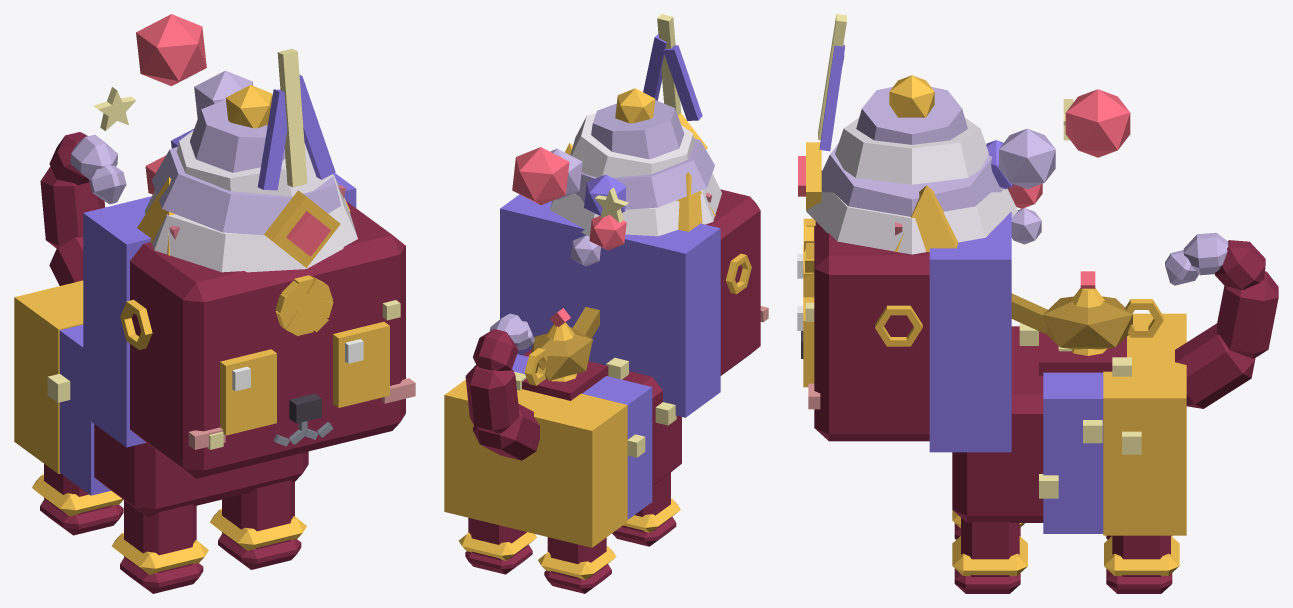
Rendered from CatCafe_Cat_Djinn.glb.
3 renders of one model, left to right at view 1: azimuth 30°, elevation 25°; view 2: azimuth 150°, elevation 25°; view 3: azimuth 270°, elevation 25°, orthographic. The views are drawn at different scales.
Parts seen in each view (by area): view 1: CatCafe_Cat_Djinn_Head, CatCafe_Cat_Djinn_Prop, CatCafe_Cat_Djinn_Body, CatCafe_Cat_Djinn_Tail, CatCafe_Cat_Djinn_Glow, CatCafe_Cat_Djinn_Smoke_Glow, CatCafe_Cat_Djinn_LegF2, CatCafe_Cat_Djinn_LegF1, CatCafe_Cat_Djinn_Eye1, CatCafe_Cat_Djinn_Eye2, CatCafe_Cat_Djinn_LegB2, CatCafe_Cat_Djinn_EarR; view 2: CatCafe_Cat_Djinn_Head, CatCafe_Cat_Djinn_Body, CatCafe_Cat_Djinn_Prop, CatCafe_Cat_Djinn_Tail, CatCafe_Cat_Djinn_Smoke_Glow, CatCafe_Cat_Djinn_Prop2, CatCafe_Cat_Djinn_Glow, CatCafe_Cat_Djinn_LegB2, CatCafe_Cat_Djinn_LegB1, CatCafe_Cat_Djinn_LegF2, CatCafe_Cat_Djinn_EarR; view 3: CatCafe_Cat_Djinn_Head, CatCafe_Cat_Djinn_Body, CatCafe_Cat_Djinn_Prop, CatCafe_Cat_Djinn_Tail, CatCafe_Cat_Djinn_Prop2, CatCafe_Cat_Djinn_Smoke_Glow, CatCafe_Cat_Djinn_LegF1, CatCafe_Cat_Djinn_LegB1, CatCafe_Cat_Djinn_Glow, CatCafe_Cat_Djinn_EarL, CatCafe_Cat_Djinn_Eye1.
Part boxes in pixels (x1,y1,x2,y2): CatCafe_Cat_Djinn_Head: (83,173,415,478); CatCafe_Cat_Djinn_Prop: (120,85,357,349); CatCafe_Cat_Djinn_Body: (14,280,308,517); CatCafe_Cat_Djinn_Tail: (40,132,126,285); CatCafe_Cat_Djinn_Glow: (257,48,335,256); CatCafe_Cat_Djinn_Smoke_Glow: (93,14,253,194); CatCafe_Cat_Djinn_LegF2: (112,500,208,593); CatCafe_Cat_Djinn_LegF1: (210,480,306,569); CatCafe_Cat_Djinn_Eye1: (333,321,389,407); CatCafe_Cat_Djinn_Eye2: (220,349,276,435); CatCafe_Cat_Djinn_LegB2: (32,464,123,535); CatCafe_Cat_Djinn_EarR: (137,177,179,255); CatCafe_Cat_Djinn_Head: (500,189,768,417); CatCafe_Cat_Djinn_Body: (444,349,681,547); CatCafe_Cat_Djinn_Prop: (549,88,751,294); CatCafe_Cat_Djinn_Tail: (465,313,539,460); CatCafe_Cat_Djinn_Smoke_Glow: (512,147,628,266); CatCafe_Cat_Djinn_Prop2: (522,307,608,400); CatCafe_Cat_Djinn_Glow: (643,14,702,120); CatCafe_Cat_Djinn_LegB2: (538,537,616,593); CatCafe_Cat_Djinn_LegB1: (458,517,536,574); CatCafe_Cat_Djinn_LegF2: (612,472,680,546); CatCafe_Cat_Djinn_EarR: (676,172,715,231); CatCafe_Cat_Djinn_Head: (801,170,1011,452); CatCafe_Cat_Djinn_Body: (952,313,1186,535); CatCafe_Cat_Djinn_Prop: (806,75,1017,346); CatCafe_Cat_Djinn_Tail: (1165,232,1278,408); CatCafe_Cat_Djinn_Prop2: (1011,271,1163,375); CatCafe_Cat_Djinn_Smoke_Glow: (986,89,1130,244); CatCafe_Cat_Djinn_LegF1: (952,518,1027,593); CatCafe_Cat_Djinn_LegB1: (1104,535,1179,593); CatCafe_Cat_Djinn_Glow: (798,14,846,196); CatCafe_Cat_Djinn_EarL: (894,185,958,251); CatCafe_Cat_Djinn_Eye1: (797,297,814,387).
Size of the model in its own units: 1.12 by 2.46 by 1.97.
Materials: 1 (1 with a texture image).
